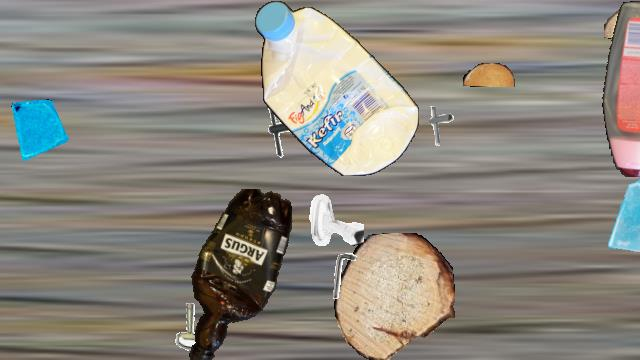glass: (8, 99, 72, 163), (597, 179, 640, 259)
metal: (257, 99, 317, 159), (306, 191, 364, 249), (165, 299, 221, 355), (319, 249, 373, 303), (417, 103, 461, 147)
plastic: (255, 1, 419, 175), (179, 189, 299, 359), (601, 1, 640, 177)
wood: (334, 233, 454, 359), (463, 63, 515, 87), (604, 9, 640, 41)
